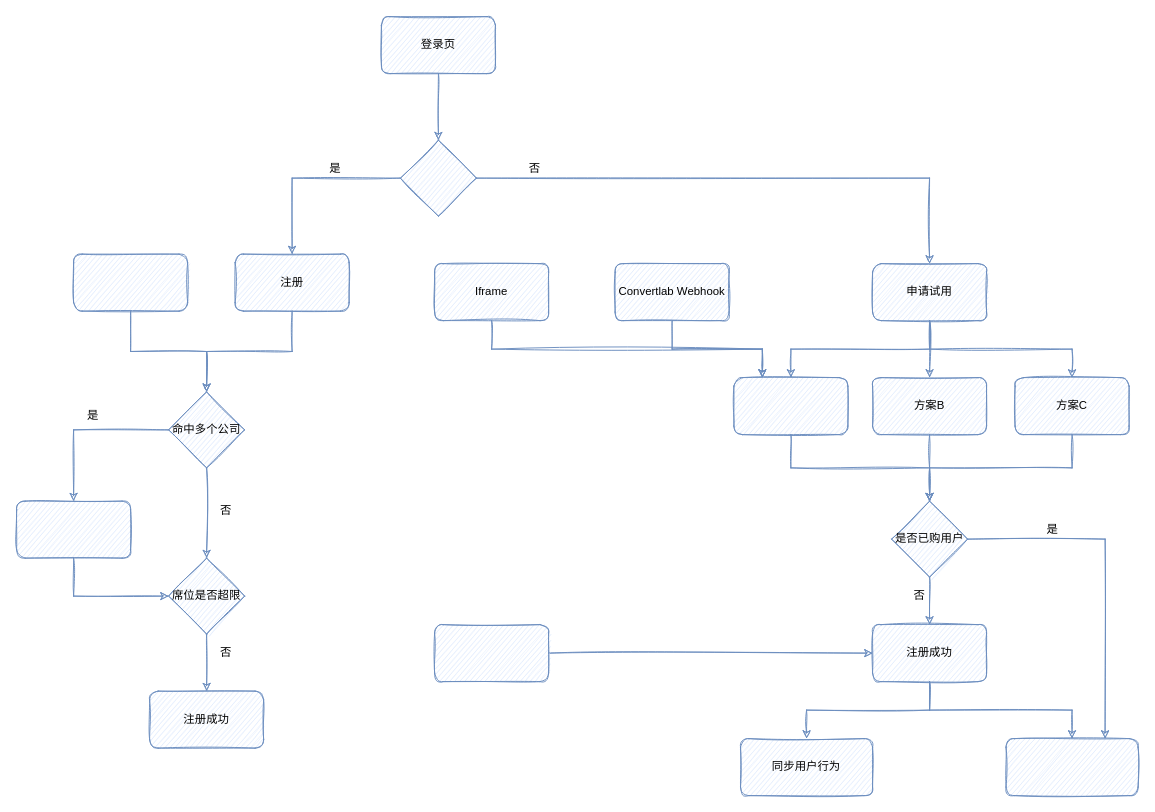
This 1155x812 diagram has some shape labels left out. Here are the shapes that lost their labels. From the top down, the centre of each, then its label:
pixel 437 177: 是否命中IP
pixel 130 282: Admin Portal获取注册页
pixel 790 406: 方案A
pixel 73 529: 录入完整公司名
pixel 491 653: 2C学院注册
pixel 1071 767: 创建销售线索 销售易/salesforce/converlab
